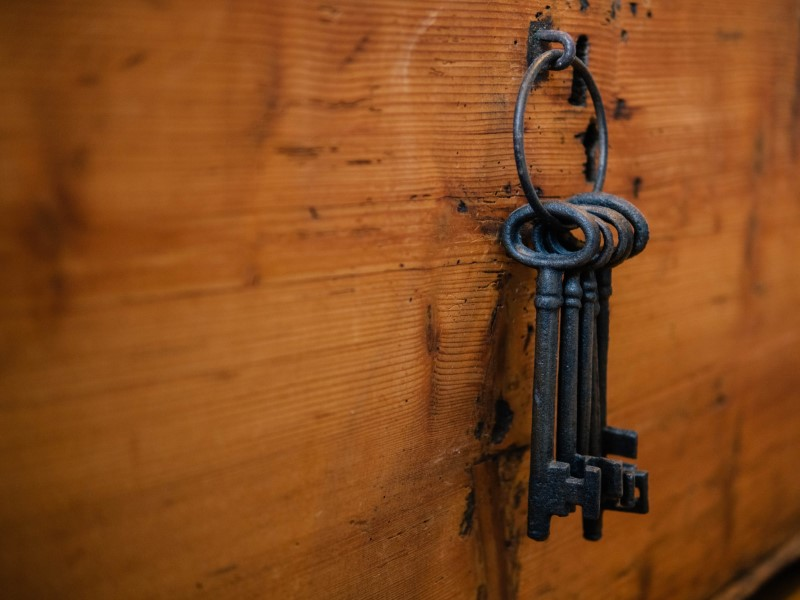key: (497, 186, 656, 546)
